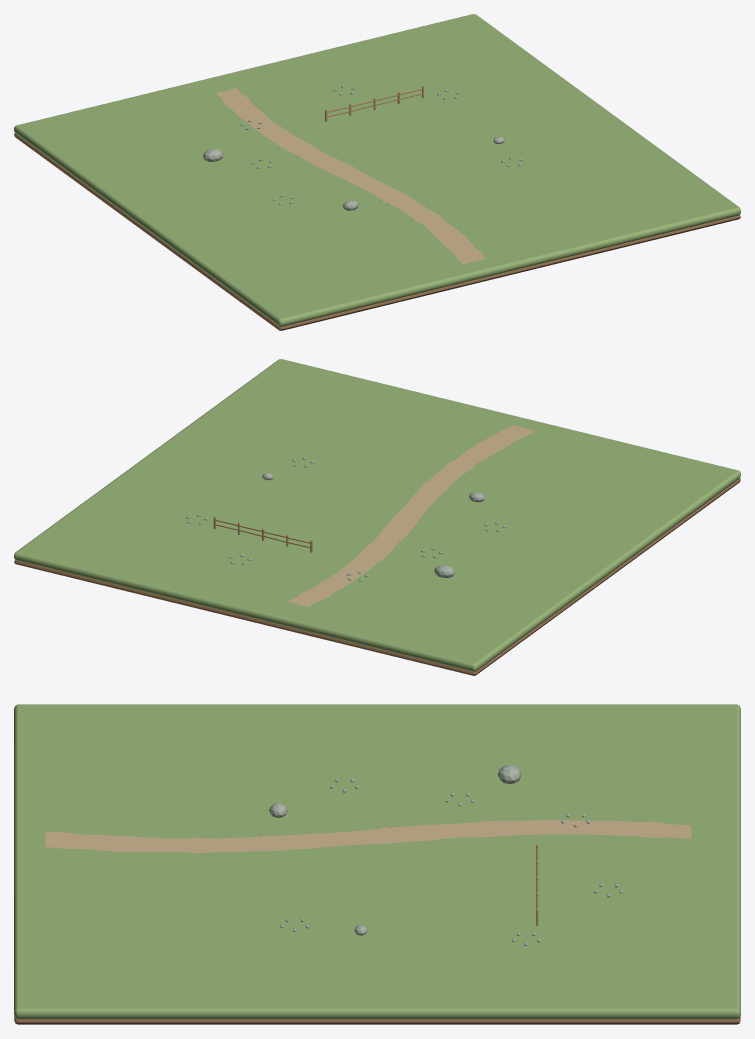
Rendered from farm_environment.glb.
The picture shows the model from 3 angles, top to bottom: view 1: azimuth 30°, elevation 25°; view 2: azimuth 150°, elevation 25°; view 3: azimuth 270°, elevation 25°; orthographic projection. The views are drawn at different scales.
Parts seen in each view (by area): view 1: Farm environment • static mesh; view 2: Farm environment • static mesh; view 3: Farm environment • static mesh.
Boxes of the visible parts, box(x1,y1,x2,y2) form: Farm environment • static mesh: box(14, 14, 740, 330); Farm environment • static mesh: box(14, 359, 740, 675); Farm environment • static mesh: box(14, 704, 740, 1024).
Bounding box in the file's own units: 44 × 2.23 × 44.
